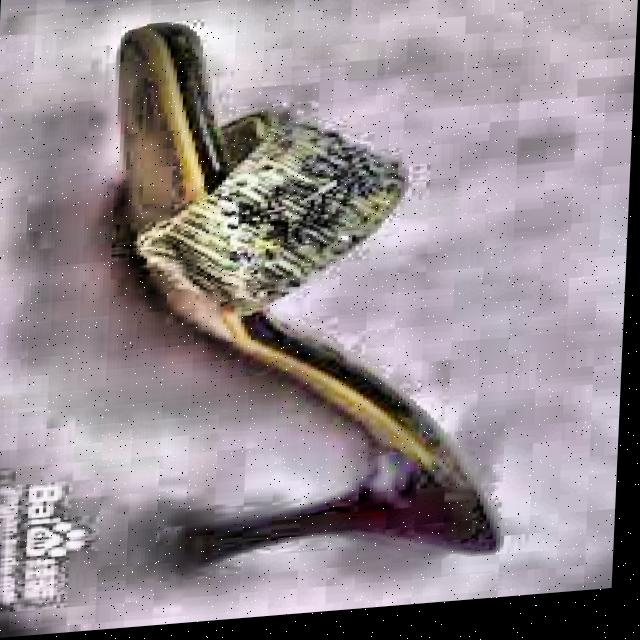shoes: (88, 0, 570, 631)
